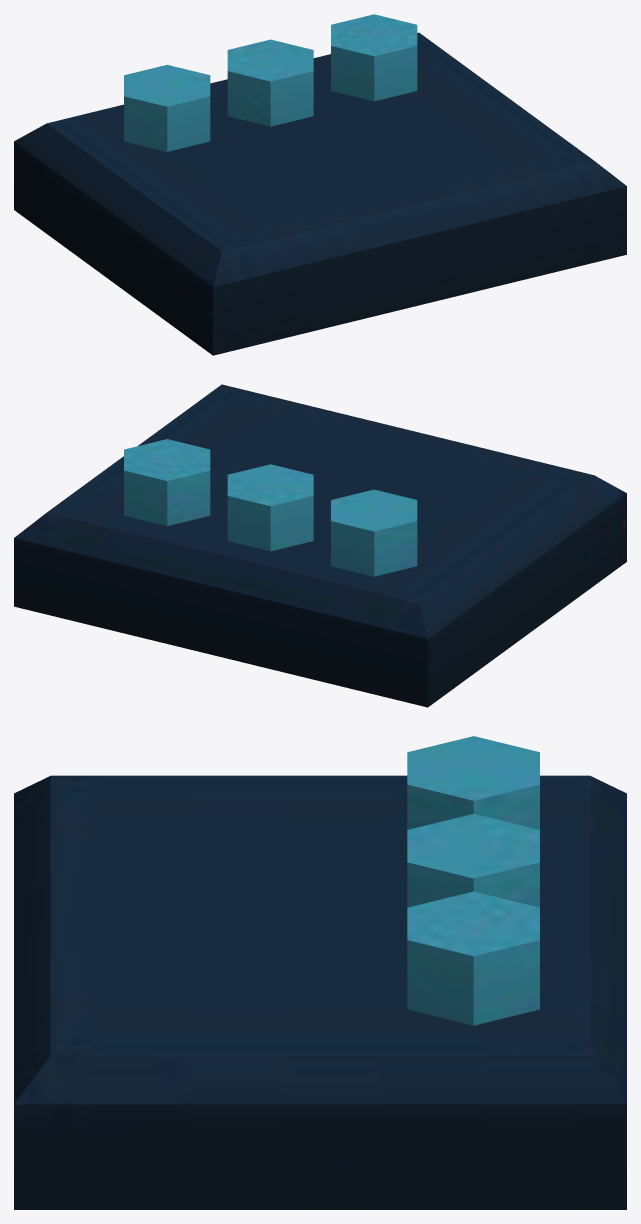
Rendered from speed-module-2.glb.
3 renders of one model, top to bottom at view 1: azimuth 30°, elevation 25°; view 2: azimuth 150°, elevation 25°; view 3: azimuth 270°, elevation 25°, orthographic. The views are drawn at different scales.
Parts seen in each view (by area): view 1: speed-module-2; view 2: speed-module-2; view 3: speed-module-2.
Boxes of the visible parts, x1,y1,x2,y2 form: speed-module-2: (14,14,626,355); speed-module-2: (14,384,626,707); speed-module-2: (14,736,626,1209).
Size of the model in its own units: 0.24 by 0.075 by 0.2.
Materials: 1 (1 with a texture image).
